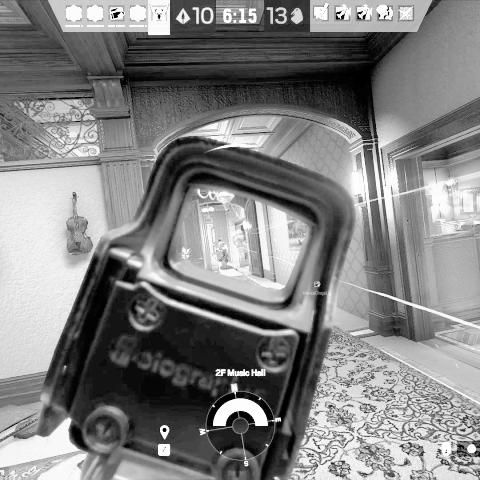Character: (214, 237, 238, 274)
Friend_label: (302, 276, 333, 297)
Head: (217, 239, 223, 244)
